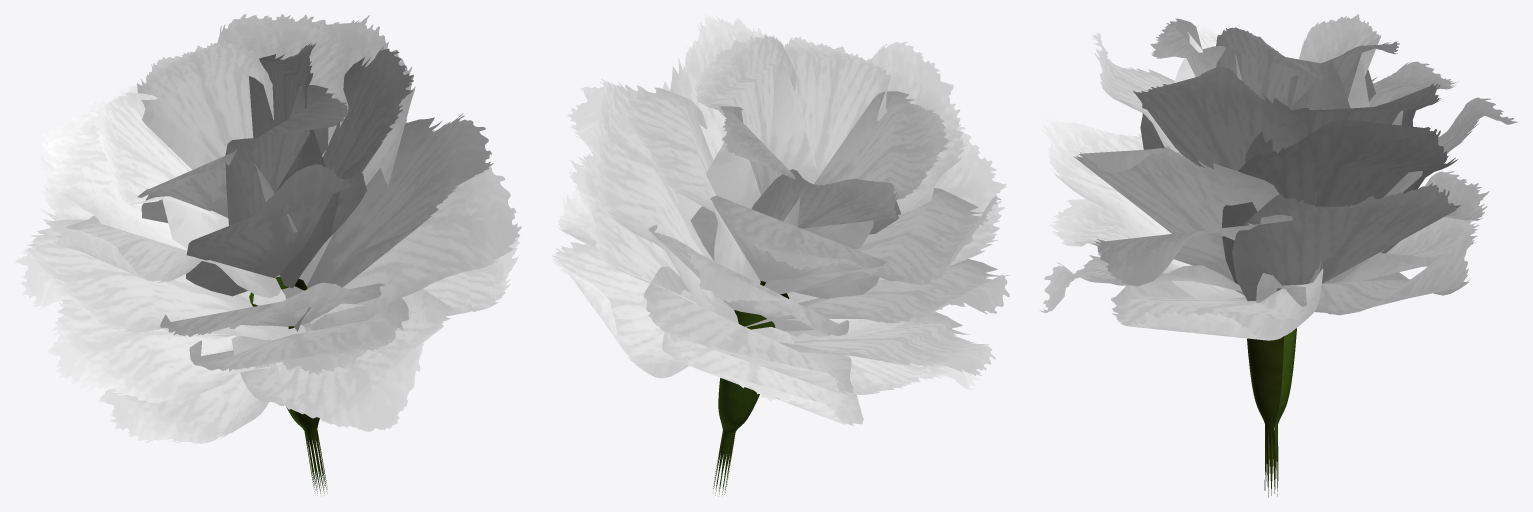
The model's file is carnation.glb.
The picture shows the model from 3 angles, left to right: view 1: azimuth 30°, elevation 25°; view 2: azimuth 150°, elevation 25°; view 3: azimuth 270°, elevation 25°; orthographic projection.
Parts seen in each view (by area): view 1: carnation; view 2: carnation; view 3: carnation.
Part boxes in pixels (bbox=[...]): carnation: bbox=[14, 14, 521, 493]; carnation: bbox=[551, 14, 1010, 496]; carnation: bbox=[1039, 14, 1517, 497].
Size of the model in its own units: 0.0624 by 0.0605 by 0.0576.
2 materials, 2 textured.
